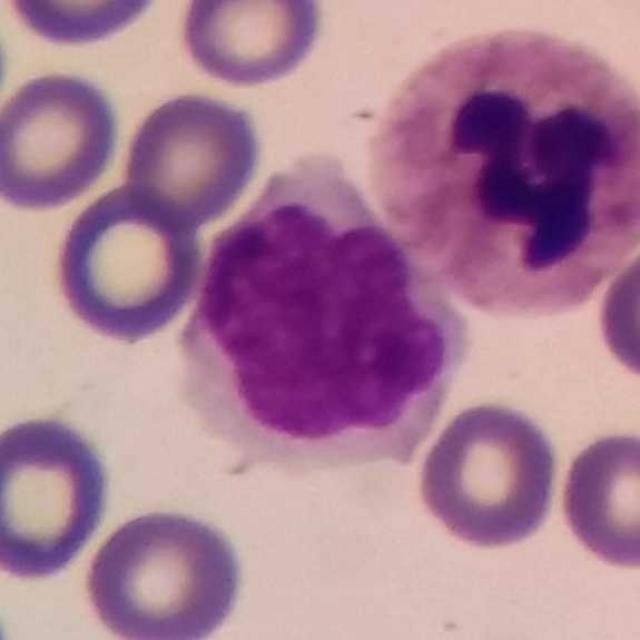Monocyte: (175, 156, 465, 474)
Neutrophil: (372, 29, 640, 318)
